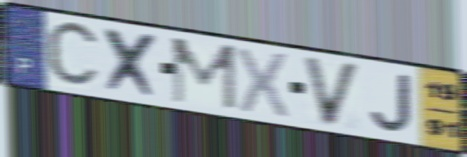C: (44, 18, 103, 91)
J: (369, 71, 415, 134)
M: (169, 35, 239, 113)
V: (300, 54, 363, 130)
X: (101, 25, 162, 102), (235, 45, 290, 122)
